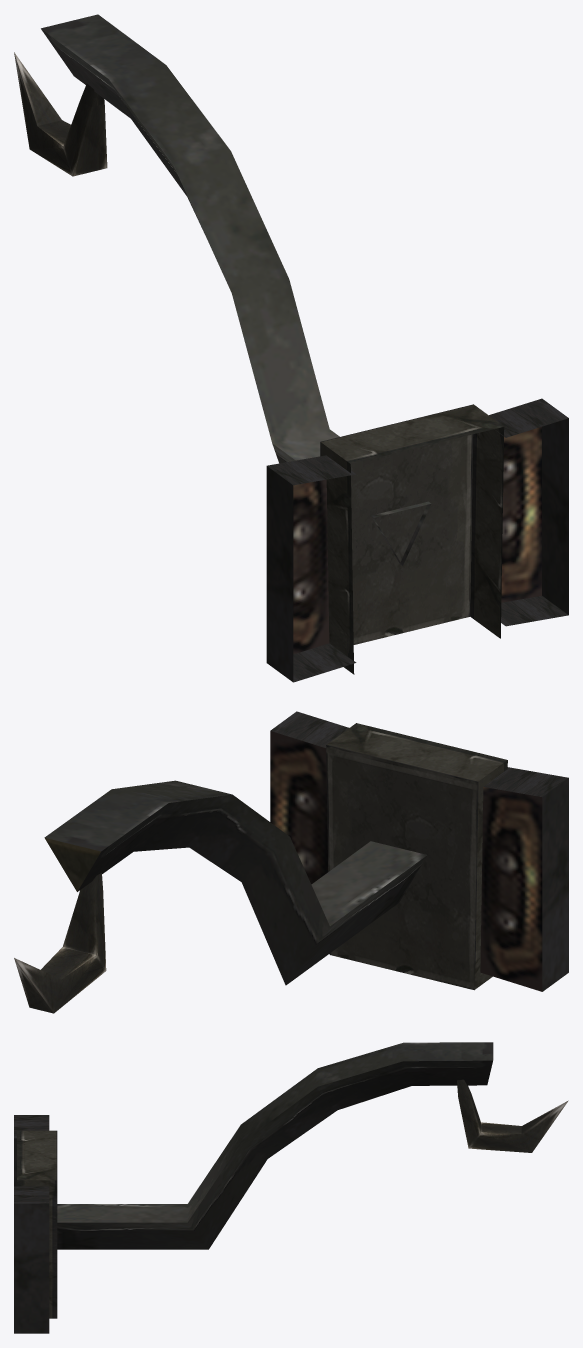
Rendered from Fire_bowl_B_hang.FBX.
3 views of the same model, one above another, from view 1: azimuth 30°, elevation 25°; view 2: azimuth 150°, elevation 25°; view 3: azimuth 270°, elevation 25° (orthographic). The views are drawn at different scales.
Visible parts, largest first — view 1: Fire_bowl_B_hang; view 2: Fire_bowl_B_hang; view 3: Fire_bowl_B_hang.
Part boxes in pixels (x1,y1,x2,y2): Fire_bowl_B_hang: (14,14,568,682); Fire_bowl_B_hang: (14,711,568,1013); Fire_bowl_B_hang: (14,1042,568,1333).
Bounding box in the file's own units: 0.8988 × 1.16 × 2.38.
